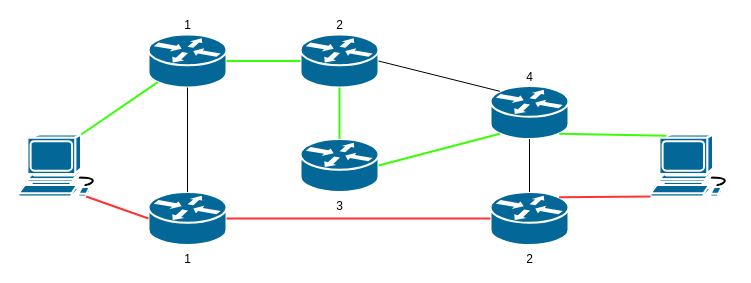
Some shapes in this 751 by 283 pixel diagram are drawn without their labels. The centre of each missing label's shape, as x and y in pixels:
"S1" belongs at point 59,165.
"S2" belongs at point 691,165.
